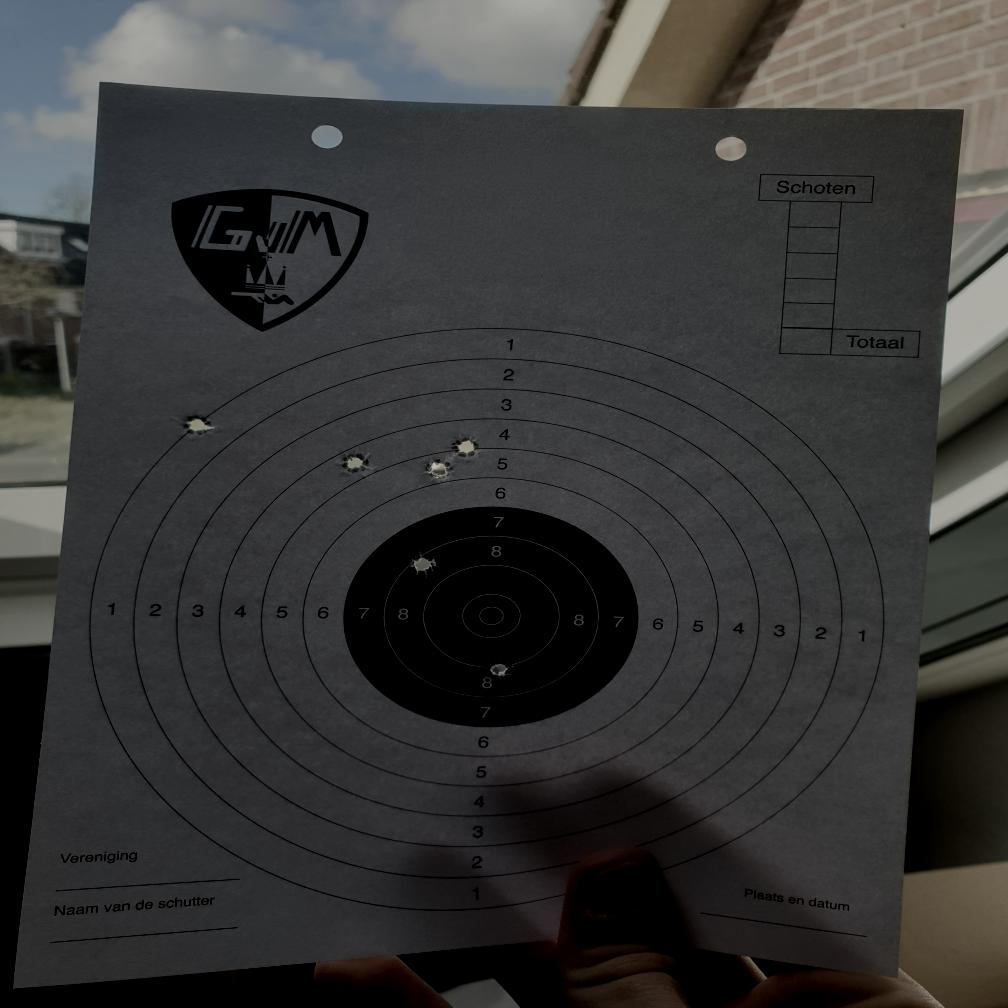1: (177, 413, 214, 436)
4: (336, 450, 372, 478)
5: (444, 432, 482, 463), (419, 458, 452, 480)
8: (480, 654, 517, 681), (403, 553, 437, 575)
Target: (94, 326, 884, 909)
black_contour: (343, 505, 639, 727)
